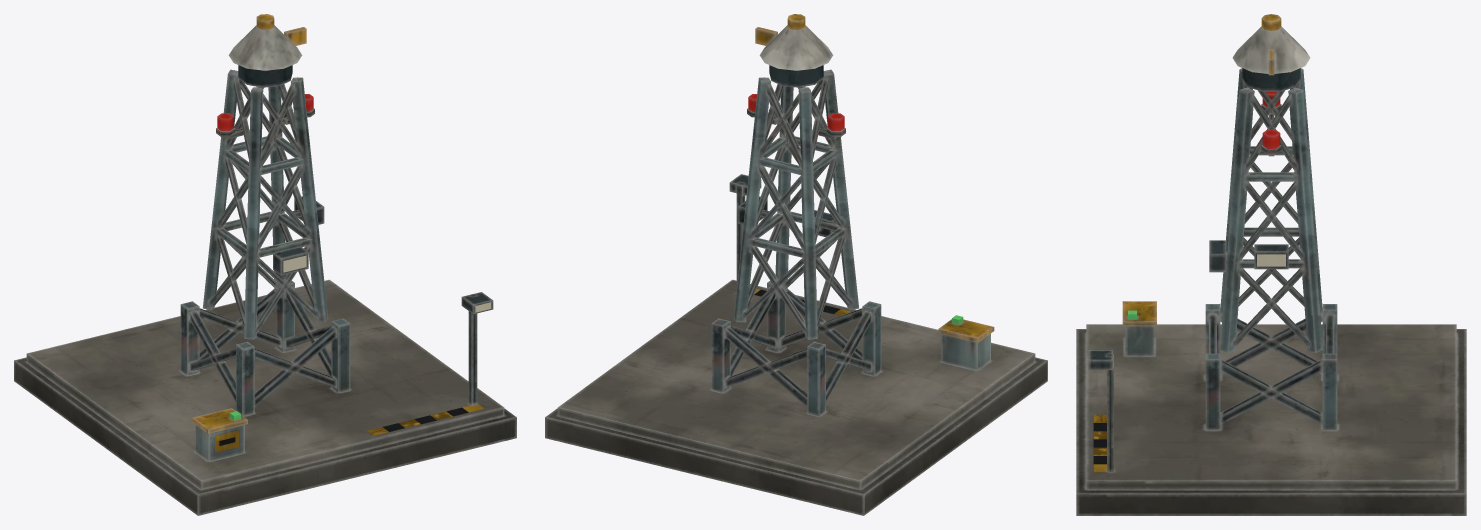
The model's file is planetary_sensor.glb.
The picture shows the model from 3 angles, left to right: view 1: azimuth 30°, elevation 25°; view 2: azimuth 150°, elevation 25°; view 3: azimuth 270°, elevation 25°; orthographic projection. The views are drawn at different scales.
Parts seen in each view (by area): view 1: te_planetary_sensor, move_sensor; view 2: te_planetary_sensor, move_sensor; view 3: te_planetary_sensor, move_sensor.
Part boxes in pixels (left/top/right/bottom): te_planetary_sensor: left=14, top=65, right=516, bottom=515; move_sensor: left=228, top=14, right=306, bottom=70; te_planetary_sensor: left=545, top=65, right=1047, bottom=515; move_sensor: left=755, top=14, right=833, bottom=70; te_planetary_sensor: left=1076, top=68, right=1466, bottom=515; move_sensor: left=1232, top=14, right=1310, bottom=75.
Size of the model in its own units: 0.8 by 0.94 by 0.8.
Materials: 1 (1 with a texture image).
